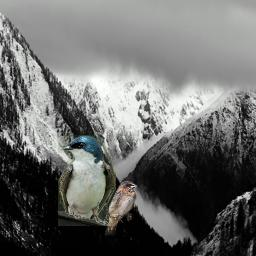Swallow: (58, 135, 116, 226), (102, 181, 137, 236)
